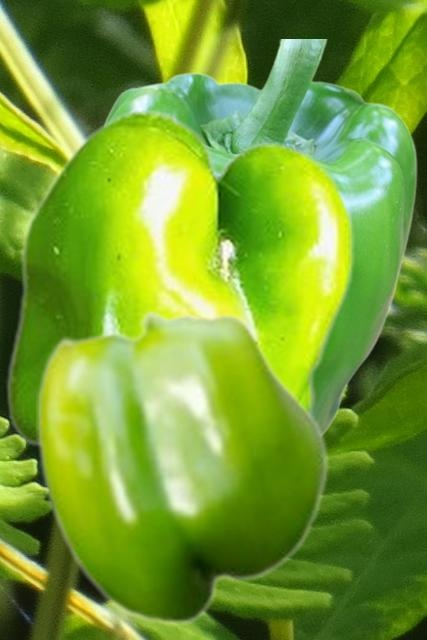bell_pepper: (103, 39, 416, 433), (5, 108, 353, 452), (36, 309, 328, 625)
